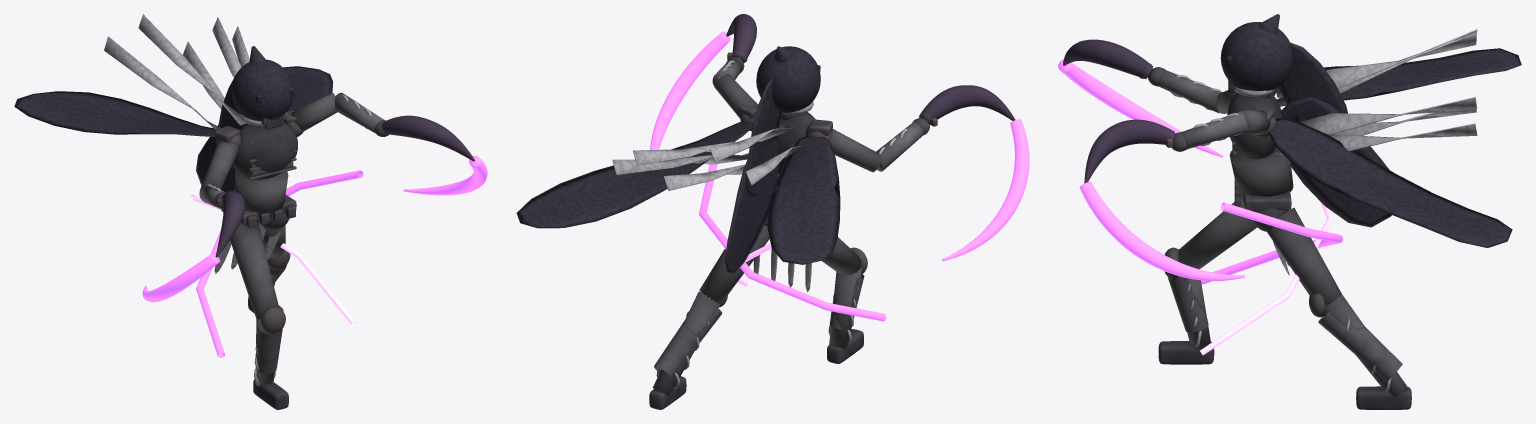
Rendered from SM_Champion_9015_Vex.glb.
3 views of the same model, side by side, from view 1: azimuth 30°, elevation 25°; view 2: azimuth 150°, elevation 25°; view 3: azimuth 270°, elevation 25° (orthographic). The views are drawn at different scales.
Visible parts, largest first — view 1: Vex; view 2: Vex; view 3: Vex.
Part boxes in pixels (<box>): Vex: <box>14,14,487,409</box>; Vex: <box>516,14,1029,409</box>; Vex: <box>1058,14,1521,409</box>.
Size of the model in its own units: 2.39 by 2.22 by 2.59.
Materials: 1 (1 with a texture image).
